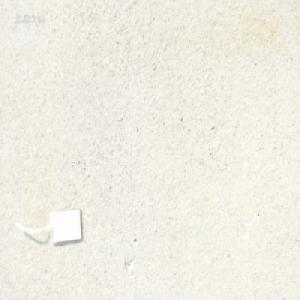LuggageTag: (15, 205, 85, 248)
